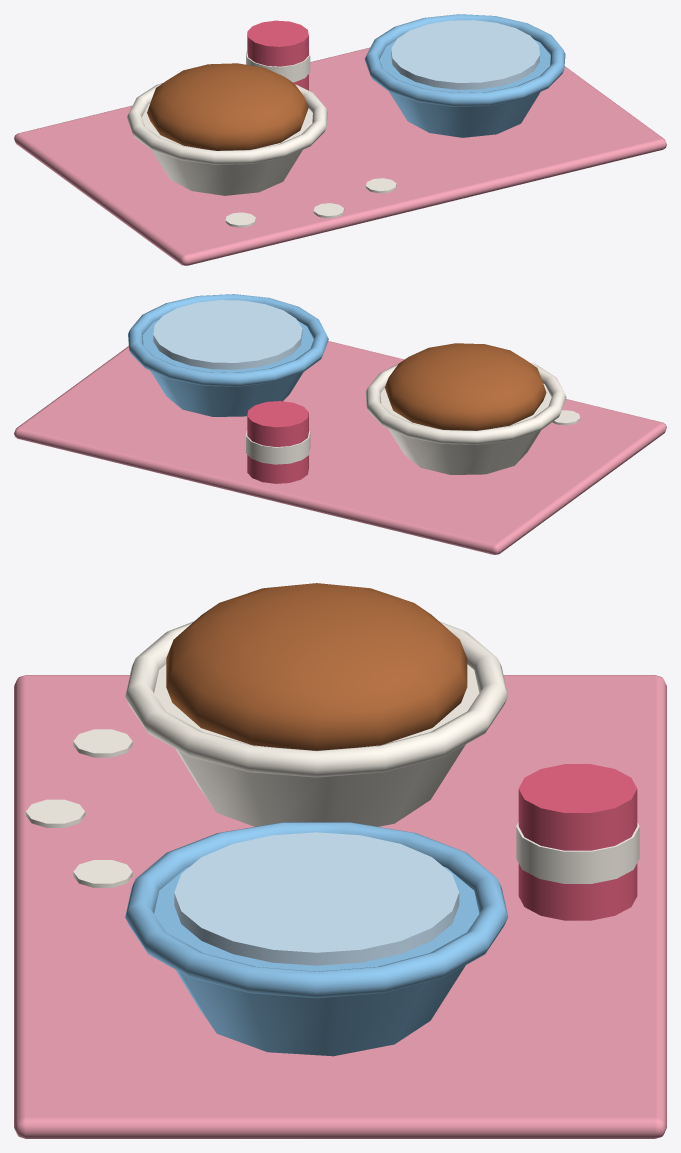
Rendered from catfood.glb.
3 views of the same model, one above another, from view 1: azimuth 30°, elevation 25°; view 2: azimuth 150°, elevation 25°; view 3: azimuth 270°, elevation 25° (orthographic). The views are drawn at different scales.
Bounding box in the file's own units: 0.9 × 0.1835 × 0.55.
